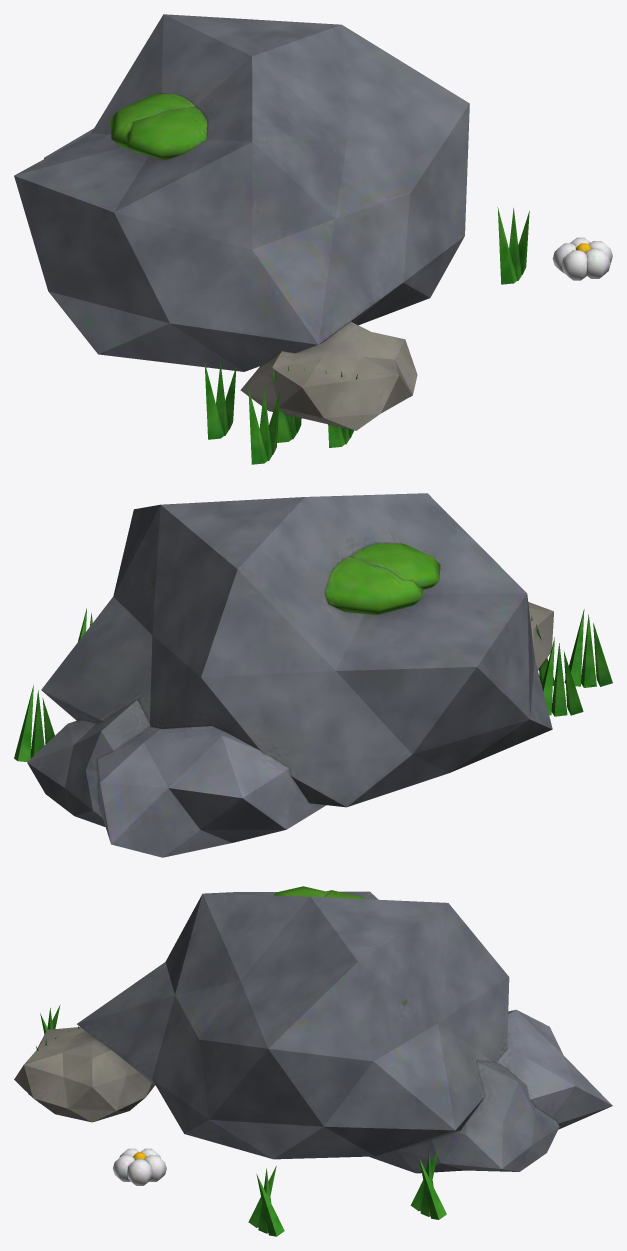
File: rock_obs1.glb
3 renders of one model, top to bottom at view 1: azimuth 30°, elevation 25°; view 2: azimuth 150°, elevation 25°; view 3: azimuth 270°, elevation 25°, orthographic. The views are drawn at different scales.
Parts seen in each view (by area): view 1: rock_obs1; view 2: rock_obs1; view 3: rock_obs1.
Part boxes in pixels (left/top/right/bottom): rock_obs1: left=14, top=14, right=612, bottom=464; rock_obs1: left=14, top=493, right=612, bottom=857; rock_obs1: left=14, top=886, right=612, bottom=1236.
Size of the model in its own units: 0.6999 by 0.3693 by 0.8642.
1 material, 1 textured.
